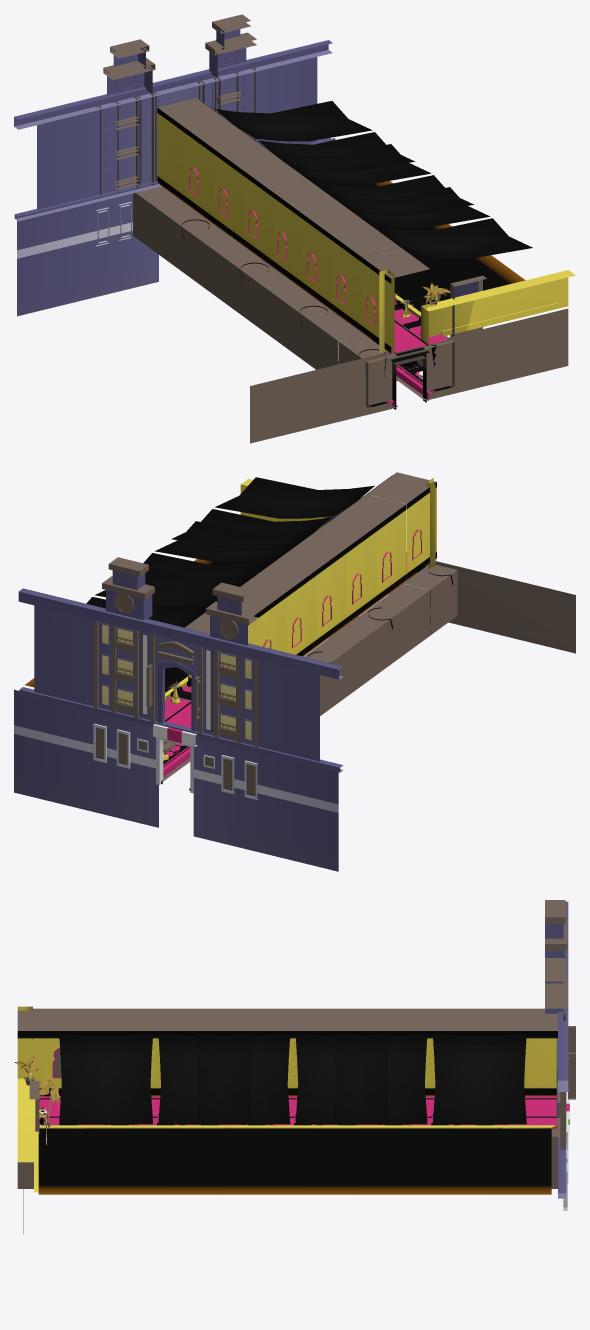
The model's file is Station.fbx.
3 renders of one model, top to bottom at view 1: azimuth 30°, elevation 25°; view 2: azimuth 150°, elevation 25°; view 3: azimuth 270°, elevation 25°, orthographic. The views are drawn at different scales.
Parts seen in each view (by area): view 1: 1.104_Dubai_station_start, 1.104_Dubai_station_end, 1.104_Dubai_station_mid, 1.104_Dubai_station_mid.002, 1.104_Dubai_station_mid.001; view 2: 1.104_Dubai_station_start, 1.104_Dubai_station_mid, 1.104_Dubai_station_mid.001, 1.104_Dubai_station_end, 1.104_Dubai_station_mid.002; view 3: 1.104_Dubai_station_mid.002, 1.104_Dubai_station_mid, 1.104_Dubai_station_mid.001, 1.104_Dubai_station_start, 1.104_Dubai_station_end.
Part boxes in pixels (x1,y1,x2,y2): 1.104_Dubai_station_start: (14,14,335,316); 1.104_Dubai_station_end: (250,247,575,443); 1.104_Dubai_station_mid: (279,187,532,378); 1.104_Dubai_station_mid.002: (162,101,414,299); 1.104_Dubai_station_mid.001: (221,144,473,342); 1.104_Dubai_station_start: (14,557,343,871); 1.104_Dubai_station_mid: (171,477,429,679); 1.104_Dubai_station_mid.001: (143,521,369,715); 1.104_Dubai_station_end: (240,472,575,653); 1.104_Dubai_station_mid.002: (86,568,286,759); 1.104_Dubai_station_mid.002: (333,1008,526,1194); 1.104_Dubai_station_mid: (59,1008,252,1194); 1.104_Dubai_station_mid.001: (196,1008,389,1194); 1.104_Dubai_station_start: (497,900,575,1210); 1.104_Dubai_station_end: (14,1006,86,1234).
Size of the model in its own units: 57408 by 41638 by 73724.
Materials: 4 (4 with a texture image).
